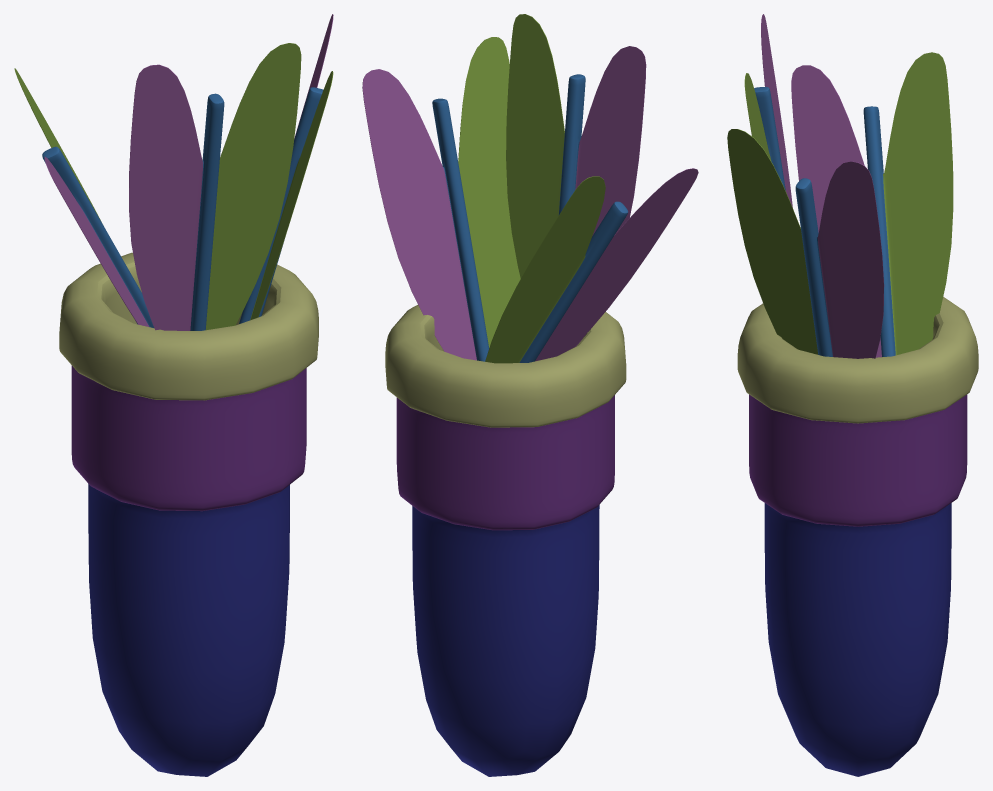
File: Misc_10.fbx
3 renders of one model, left to right at view 1: azimuth 30°, elevation 25°; view 2: azimuth 150°, elevation 25°; view 3: azimuth 270°, elevation 25°, orthographic. The views are drawn at different scales.
Parts seen in each view (by area): view 1: SetA_Misc_10; view 2: SetA_Misc_10; view 3: SetA_Misc_10.
Part boxes in pixels (box(x1,y1,x2,y2)): SetA_Misc_10: box(14, 14, 333, 776); SetA_Misc_10: box(362, 14, 698, 776); SetA_Misc_10: box(727, 14, 978, 776).
Size of the model in its own units: 0.1479 by 0.3368 by 0.1072.
